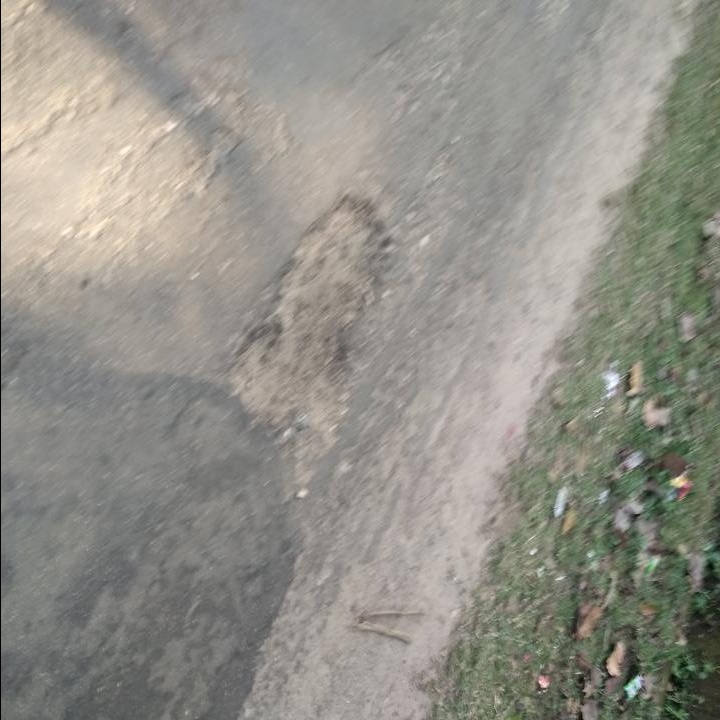pothole: (229, 189, 396, 437)
